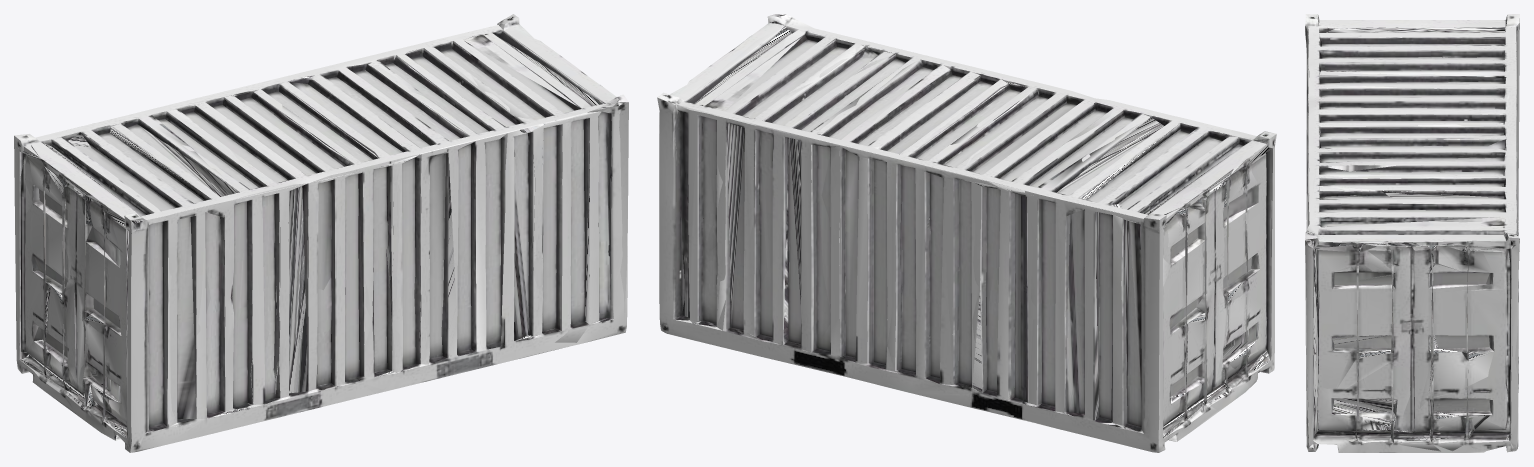
Rendered from cargo_container.glb.
3 views of the same model, side by side, from view 1: azimuth 30°, elevation 25°; view 2: azimuth 150°, elevation 25°; view 3: azimuth 270°, elevation 25° (orthographic). The views are drawn at different scales.
Visible parts, largest first — view 1: mesh_lod, turn; view 2: mesh_lod, turn; view 3: mesh_lod, turn.
Part boxes in pixels (box(x1,y1,x2,y2)): mesh_lod: box(14, 17, 628, 452); turn: box(14, 14, 628, 452); mesh_lod: box(657, 14, 1275, 451); turn: box(657, 14, 1276, 452); mesh_lod: box(1305, 14, 1519, 452); turn: box(1305, 14, 1519, 452).
Bounding box in the file's own units: 5.79 × 2.6 × 2.35.
1 material, 1 textured.
